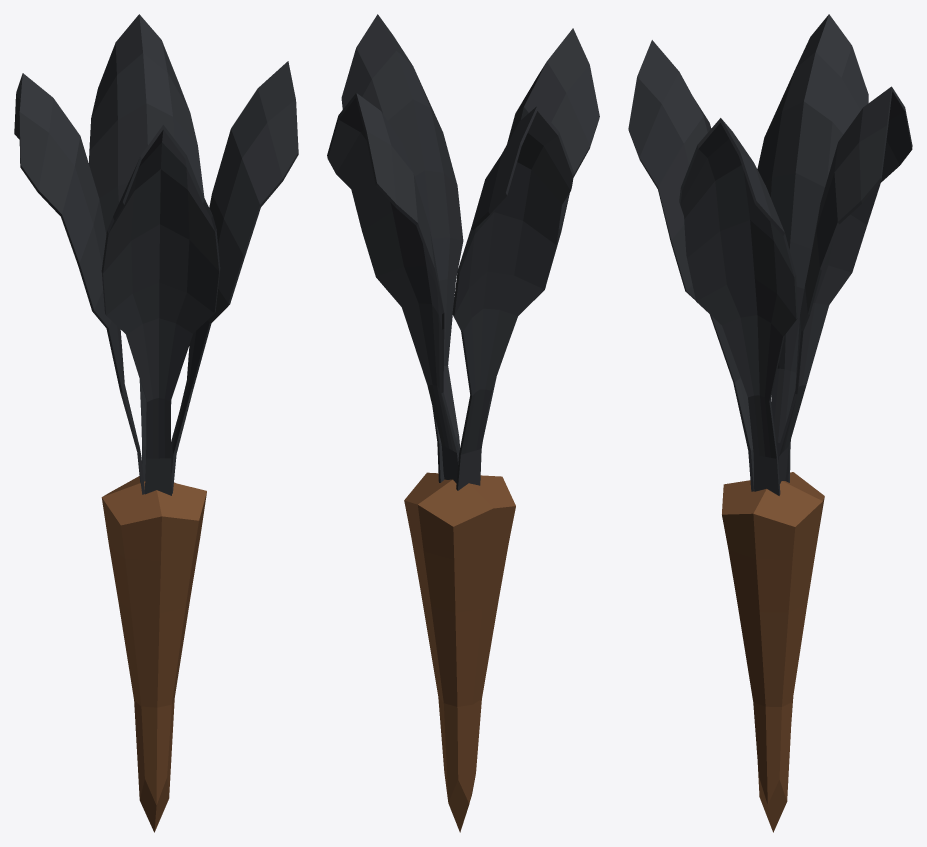
File: cc0-carrot-lod0.glb
3 renders of one model, left to right at view 1: azimuth 30°, elevation 25°; view 2: azimuth 150°, elevation 25°; view 3: azimuth 270°, elevation 25°, orthographic.
Parts seen in each view (by area): view 1: part_0; view 2: part_0; view 3: part_0.
Boxes of the visible parts, x1,y1,x2,y2 form: part_0: (14,14,298,832); part_0: (327,14,599,832); part_0: (628,14,912,832).
Size of the model in its own units: 0.9467 by 2.78 by 0.9316.
